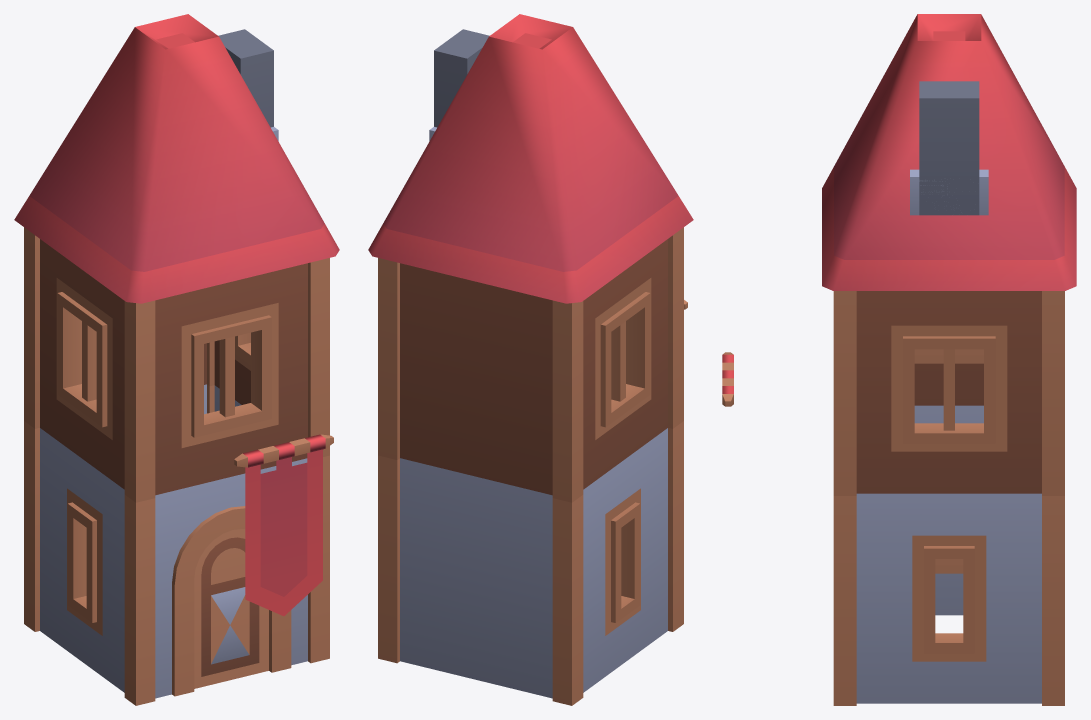
The model's file is house_3.glb.
The picture shows the model from 3 angles, left to right: view 1: azimuth 30°, elevation 25°; view 2: azimuth 150°, elevation 25°; view 3: azimuth 270°, elevation 25°; orthographic projection. The views are drawn at different scales.
Parts seen in each view (by area): view 1: house_3; view 2: house_3; view 3: house_3.
Boxes of the visible parts, x1,y1,x2,y2 form: house_3: (14,14,339,705); house_3: (368,14,693,705); house_3: (722,14,1076,705).
Size of the model in its own units: 0.792 by 2.16 by 1.1.
11 materials, 11 textured.
